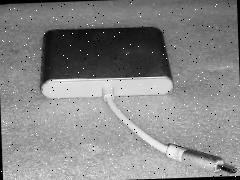electronic: (21, 8, 240, 180), (38, 24, 174, 100)
